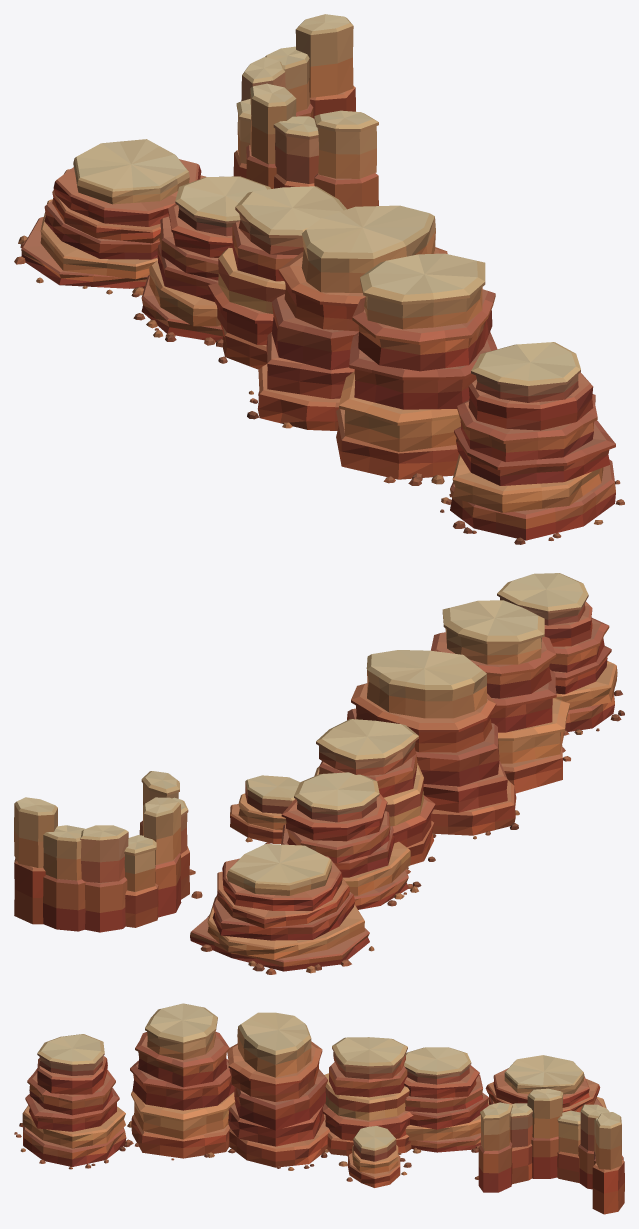
Rendered from cliffs-west.glb.
The picture shows the model from 3 angles, top to bottom: view 1: azimuth 30°, elevation 25°; view 2: azimuth 150°, elevation 25°; view 3: azimuth 270°, elevation 25°; orthographic projection. The views are drawn at different scales.
Visible parts, largest first — view 1: cliffs-west; view 2: cliffs-west; view 3: cliffs-west.
Part boxes in pixels (bbox=[...]): cliffs-west: bbox=[14, 14, 624, 544]; cliffs-west: bbox=[14, 573, 624, 974]; cliffs-west: bbox=[14, 1003, 624, 1214].
Bounding box in the file's own units: 65.64 × 29.02 × 141.
